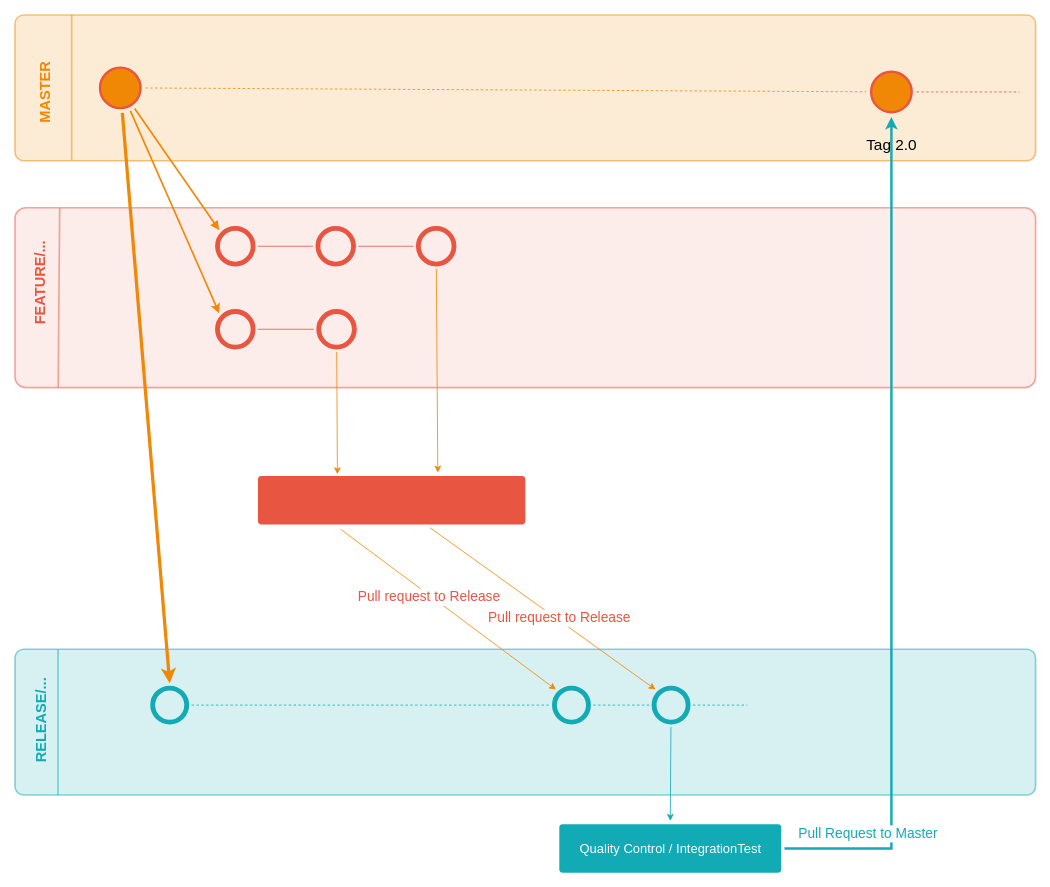
Some shapes in this 1050 by 887 pixel diagram are drawn without their labels. Here are the shapes that lost their labels. From the top down, the centre of each, then its label:
At pixel 119 87: "Tag 1.0".
At pixel 391 499: "Quality Control / Functional Test".
